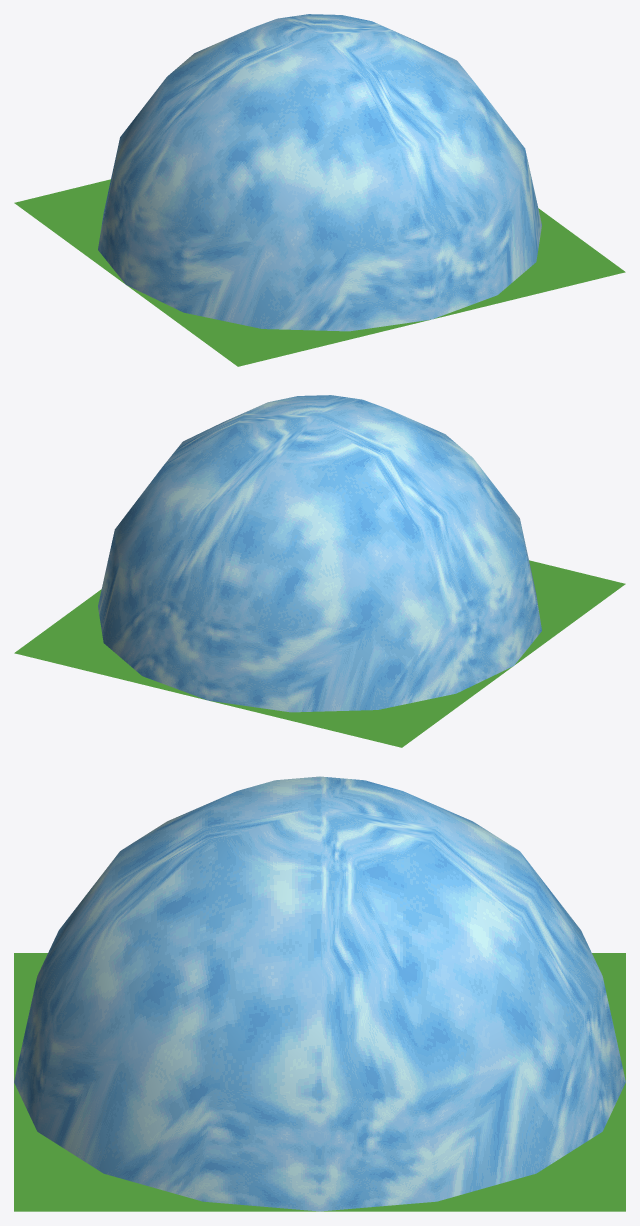
The model's file is For_Training.glb.
3 views of the same model, one above another, from view 1: azimuth 30°, elevation 25°; view 2: azimuth 150°, elevation 25°; view 3: azimuth 270°, elevation 25° (orthographic). The views are drawn at different scales.
Visible parts, largest first — view 1: Object_5, Object_4; view 2: Object_5, Object_4; view 3: Object_5, Object_4.
Part boxes in pixels (box(x1,y1,x2,y2)): Object_5: box(98, 14, 541, 331); Object_4: box(14, 179, 625, 366); Object_5: box(98, 395, 541, 712); Object_4: box(14, 560, 625, 747); Object_5: box(14, 776, 625, 1211); Object_4: box(14, 953, 625, 1211).
Bounding box in the file's own units: 100 × 50 × 100.
5 materials, 5 textured.
